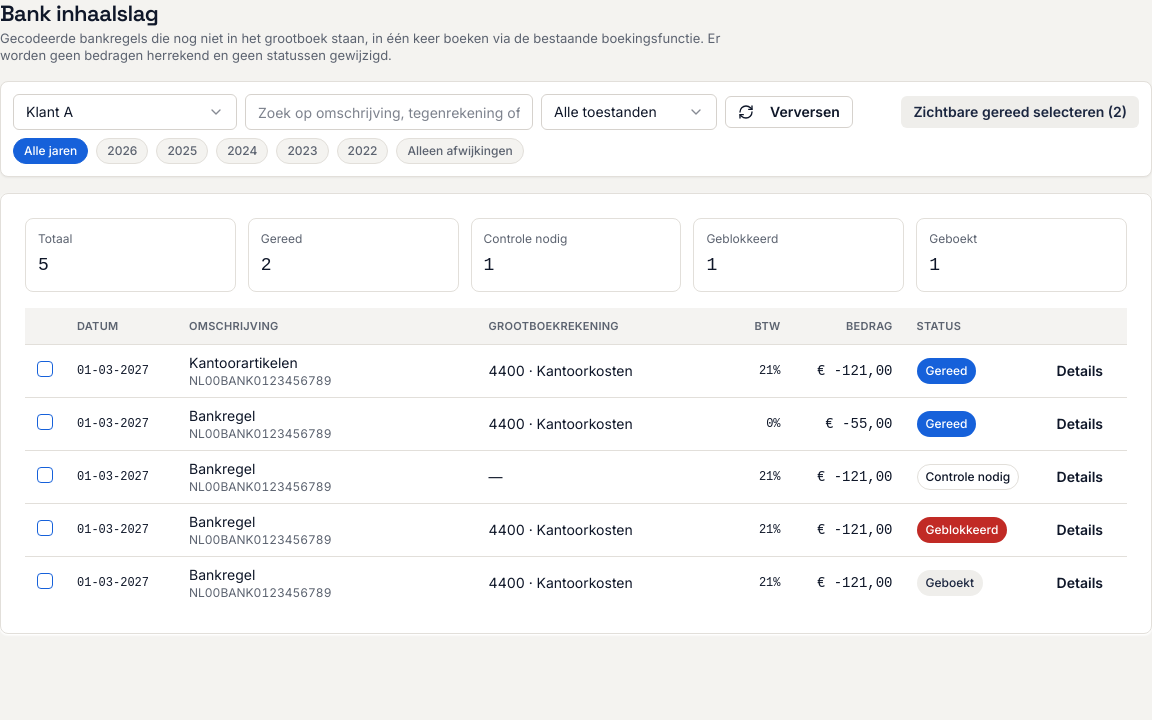
Test case: resultaat › 11. geboekt, al geboekt en geweigerd staan apart
The image size is (1152, 720).
Step 1. Click the checkbox with test id "inhaalslag-checkbox" in the row of "Kantoorartikelen" → click(45, 369), box [37,361,53,377]
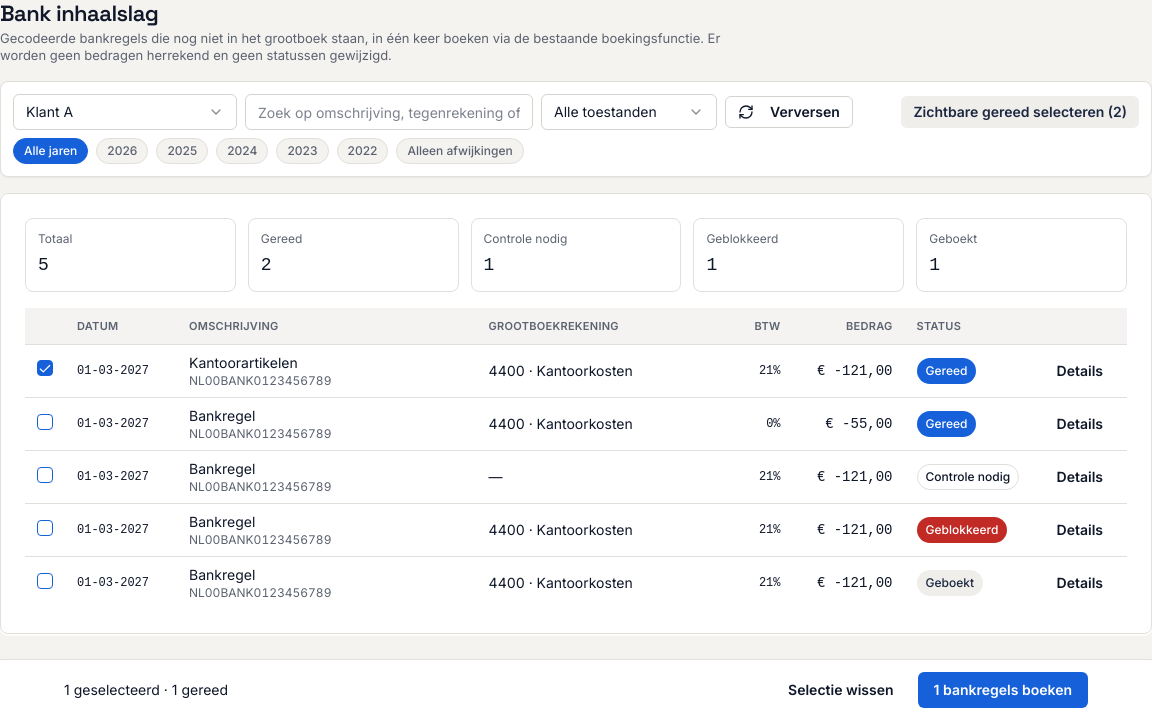
Step 2. Click the button with test id "inhaalslag-bulk" → click(1003, 690), box [918,672,1088,708]
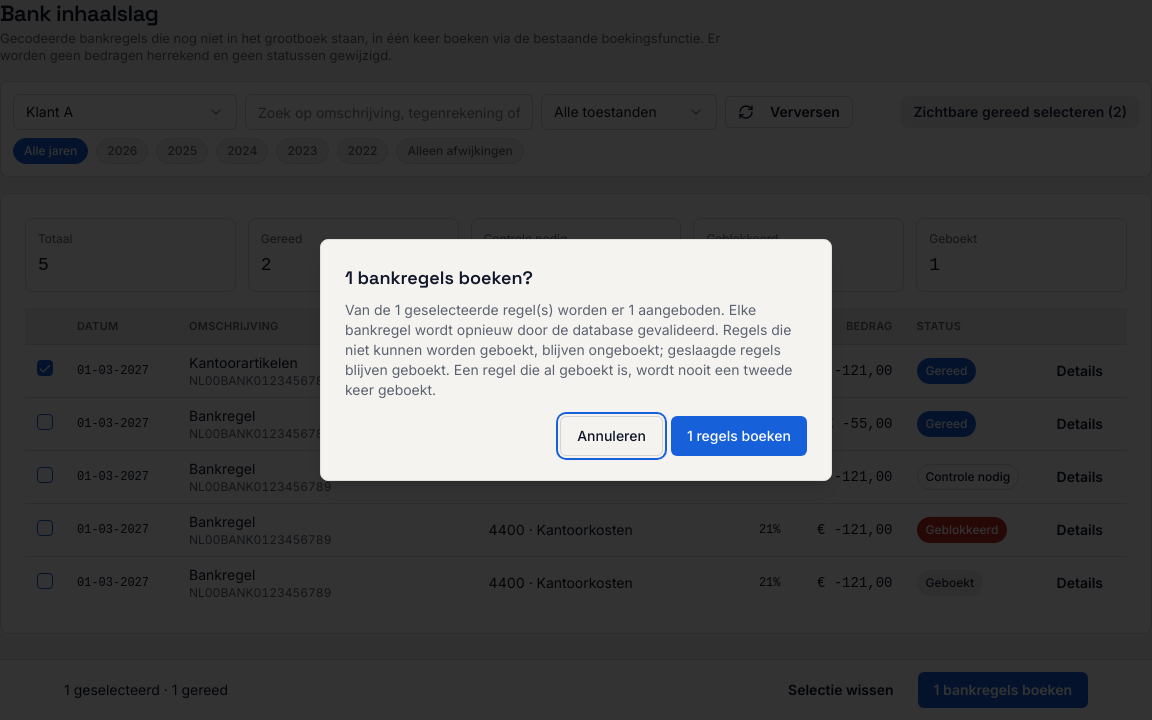
Now the button with test id "inhaalslag-bevestig" is shown
Step 3. Click the button with test id "inhaalslag-bevestig" → click(739, 436), box [671,416,807,456]
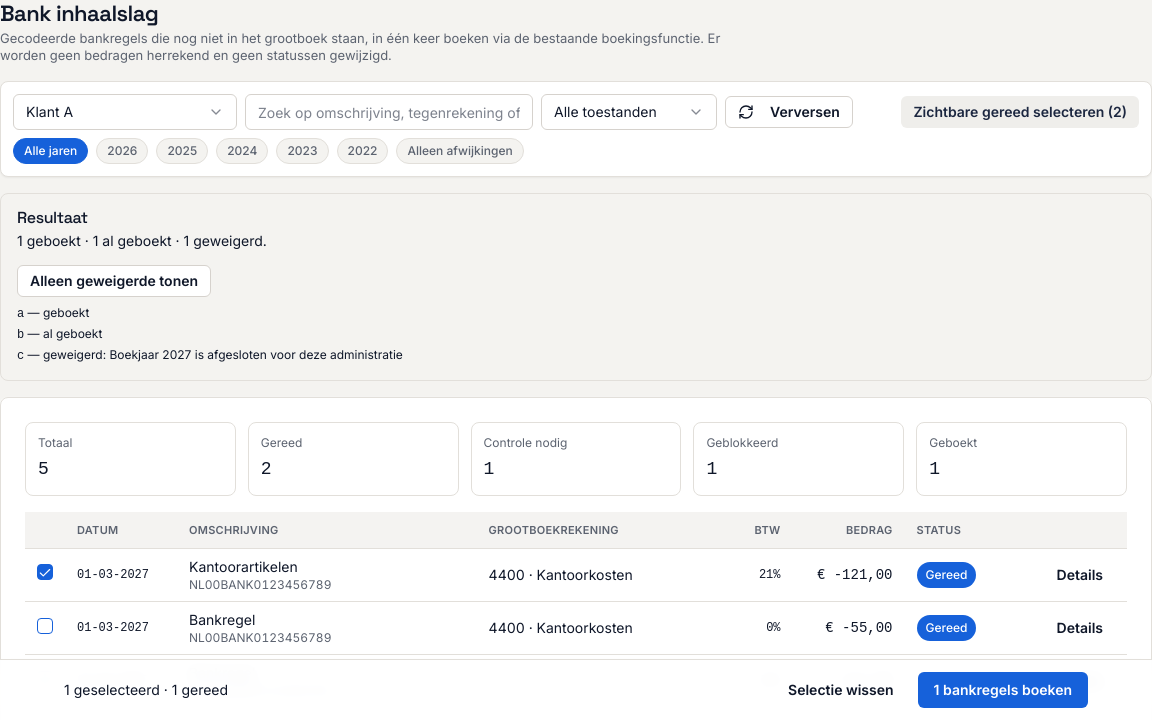
Now the text with test id "resultaat-geboekt" reads "1", box [17,232,23,249]
Now the text with test id "resultaat-al-geboekt" reads "1", box [93,232,98,249]
Now the element with test id "inhaalslag-resultaat" is shown, box [0,193,1151,381]
